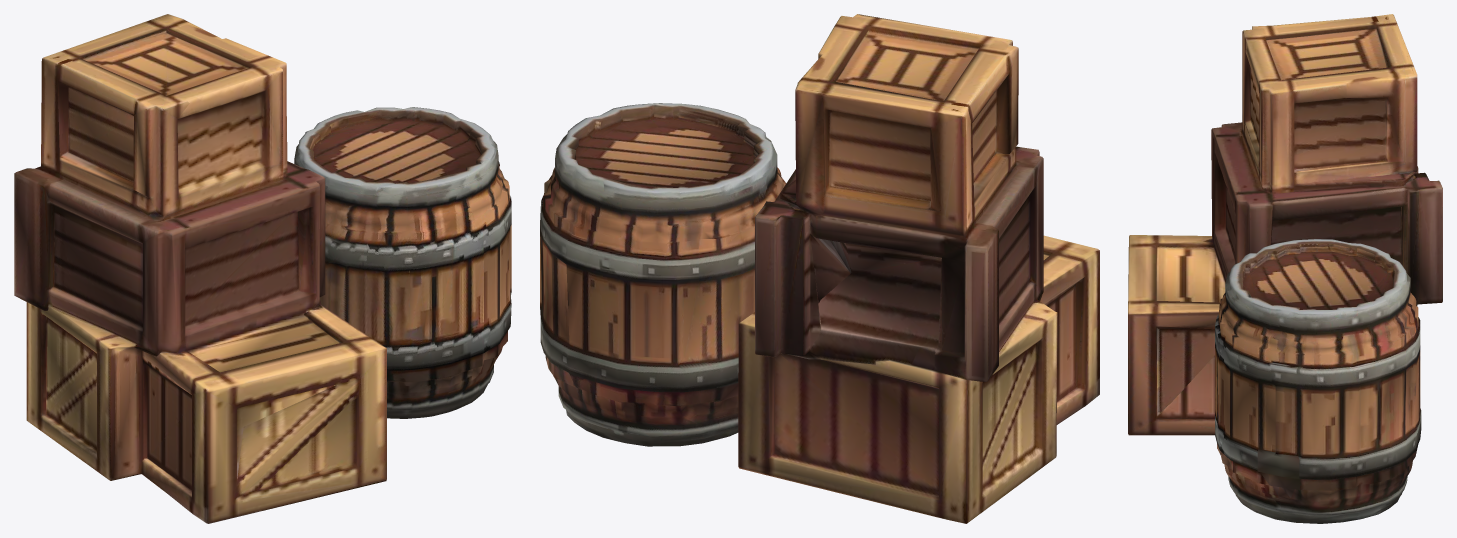
The model's file is Wooden_Crates_and_Bar.glb.
3 views of the same model, side by side, from view 1: azimuth 30°, elevation 25°; view 2: azimuth 150°, elevation 25°; view 3: azimuth 270°, elevation 25° (orthographic). The views are drawn at different scales.
Bounding box in the file's own units: 1.91 × 1.54 × 1.3.
1 material, 1 textured.
